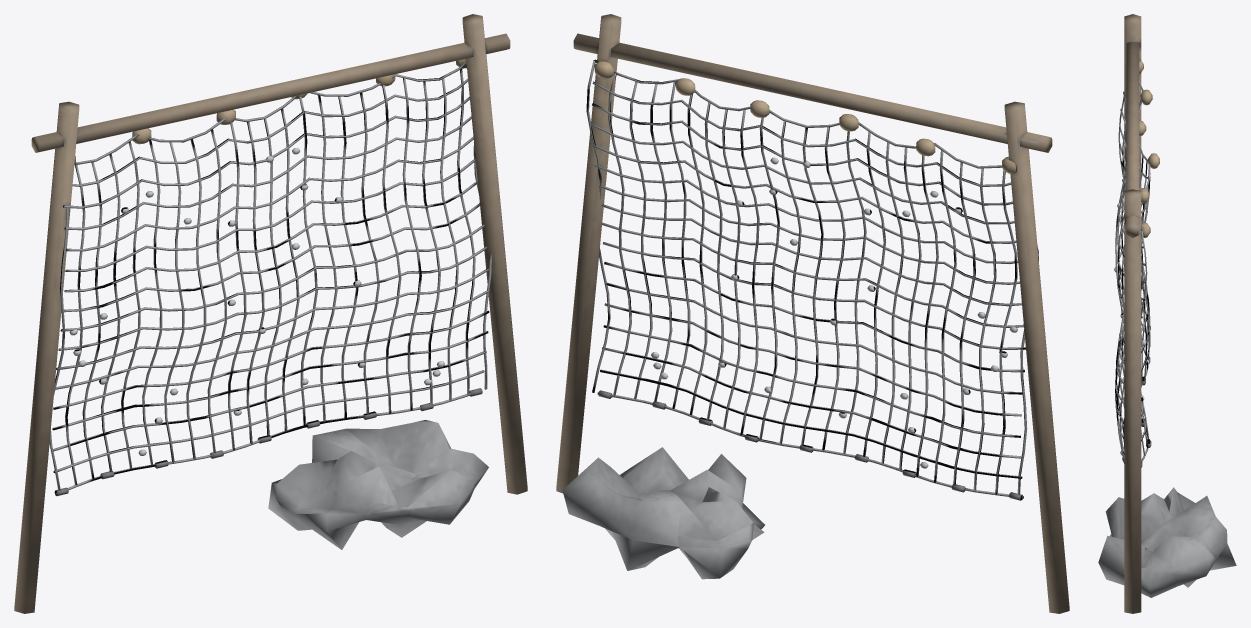
Rendered from lake_nets.glb.
3 renders of one model, left to right at view 1: azimuth 30°, elevation 25°; view 2: azimuth 150°, elevation 25°; view 3: azimuth 270°, elevation 25°, orthographic. The views are drawn at different scales.
Parts seen in each view (by area): view 1: lake_nets; view 2: lake_nets; view 3: lake_nets.
Part boxes in pixels (x1,y1,x2,y2): lake_nets: (14,14,527,613); lake_nets: (556,14,1069,613); lake_nets: (1098,14,1236,613).
Bounding box in the file's own units: 2.29 × 2.2 × 0.6429.
1 material, 1 textured.
